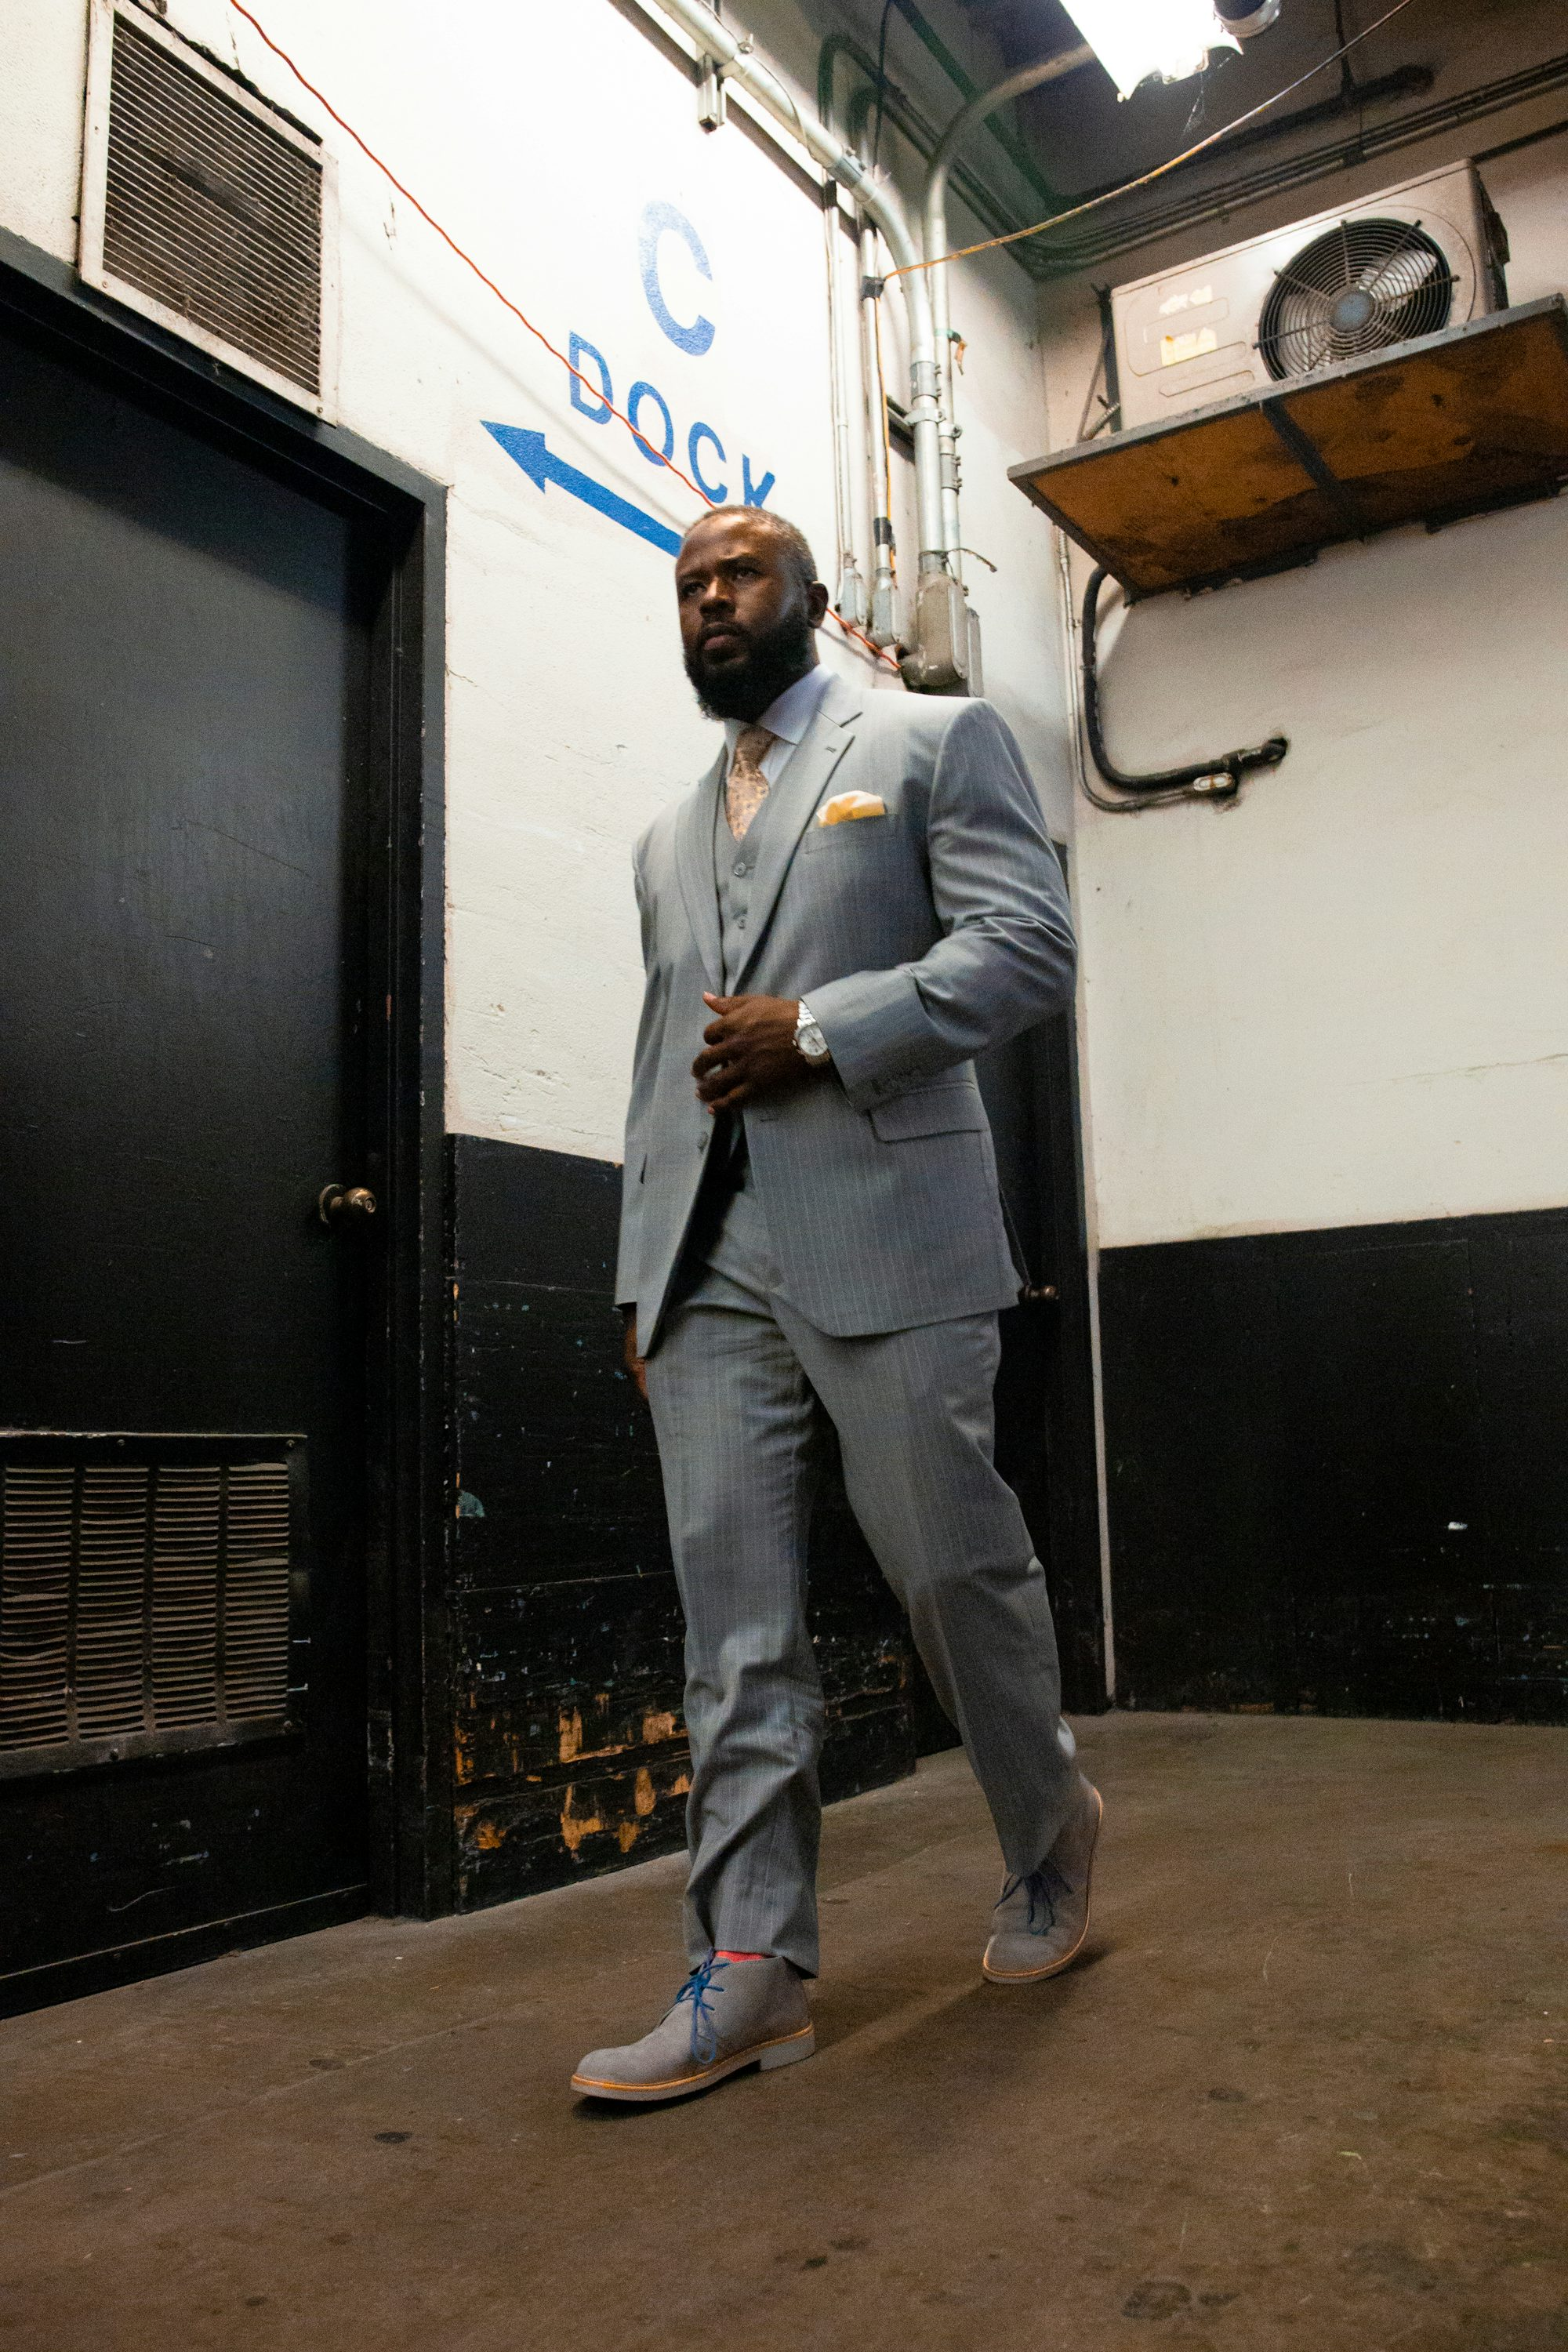person: (430, 502, 1218, 2143)
